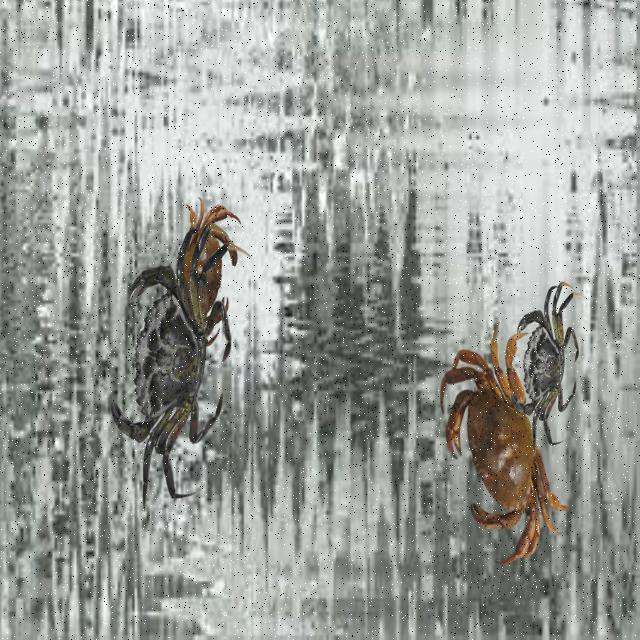European_Green_Crab: (89, 199, 257, 533), (502, 272, 589, 465)
